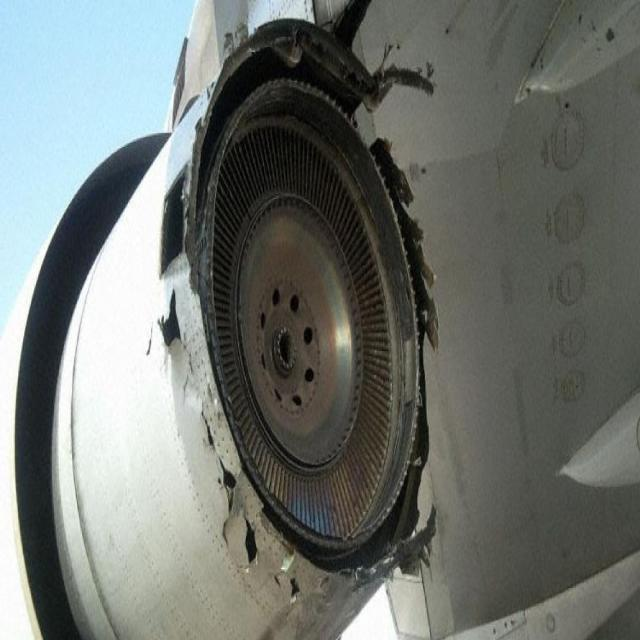crack: (161, 298, 305, 613)
